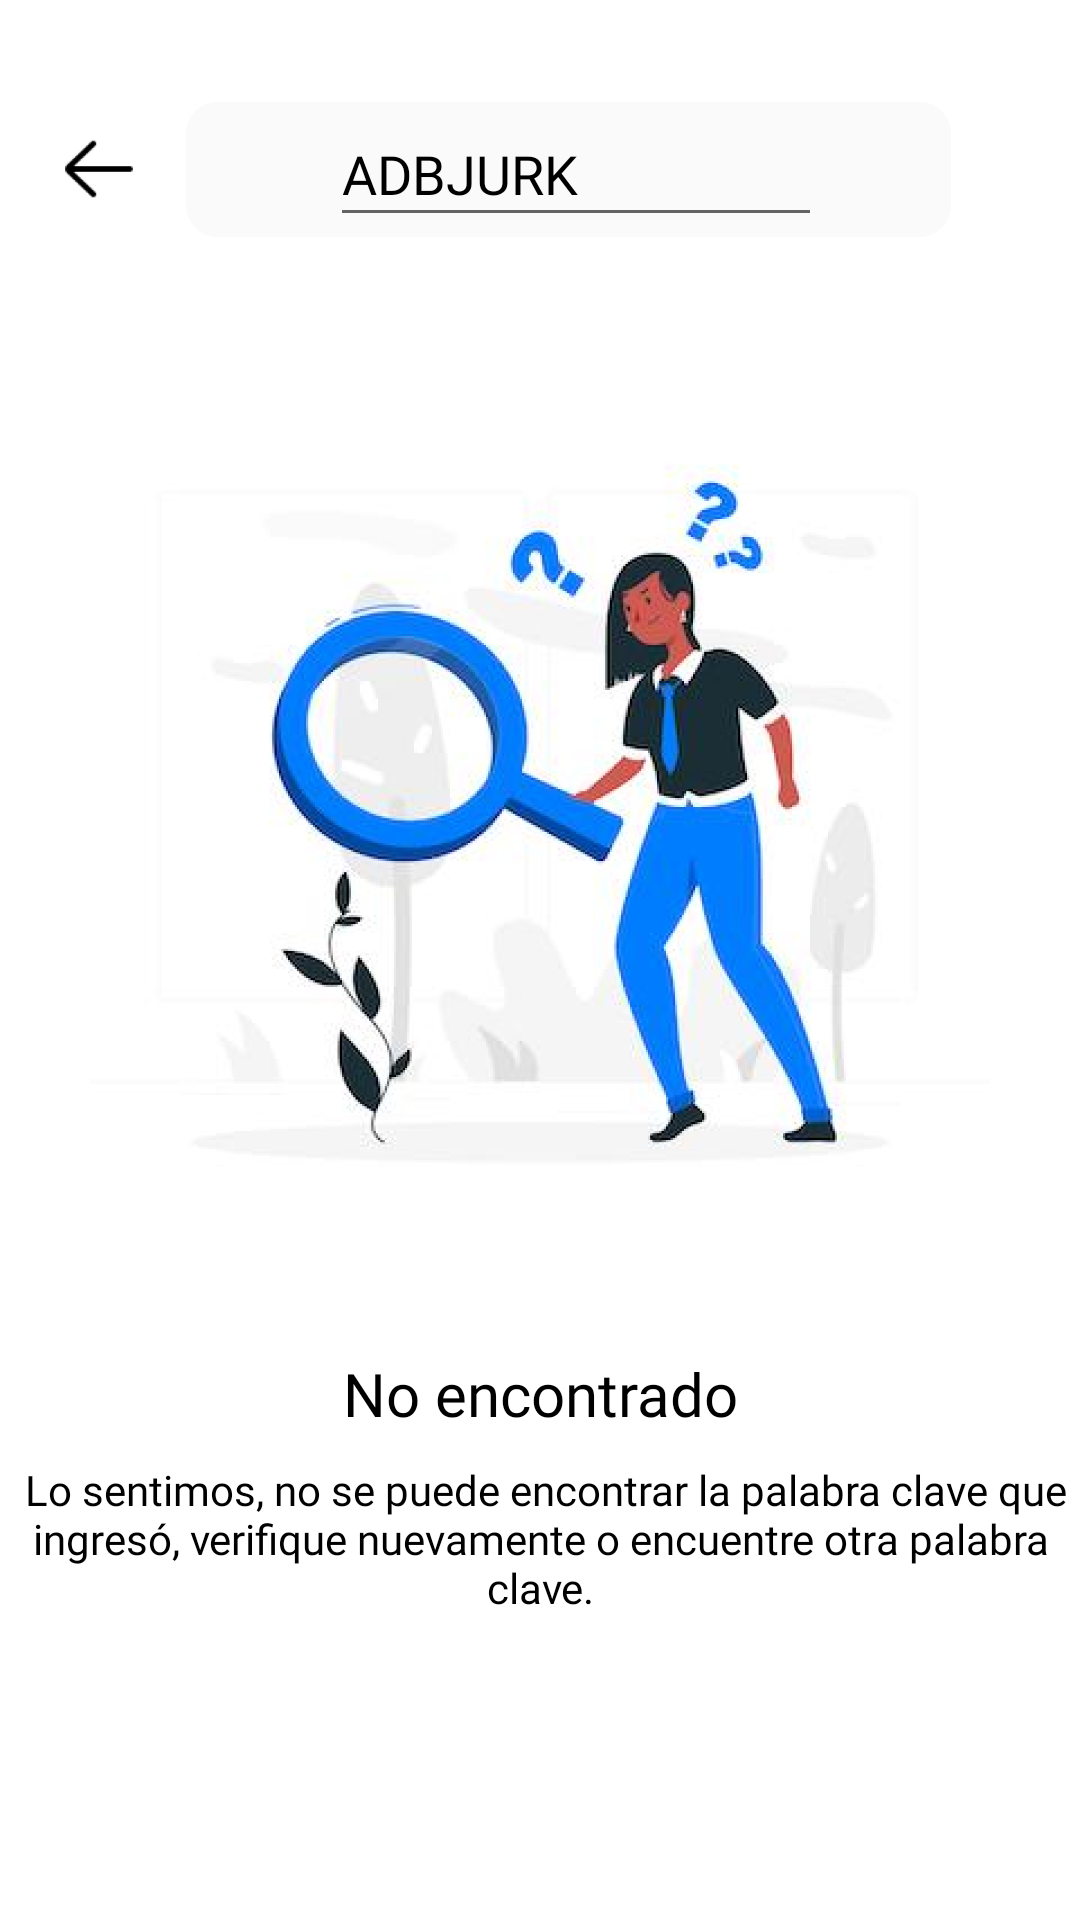

Named icons in this screenshot (1080×1920) and their centers, (x,y):
left arrow: (99,169)
